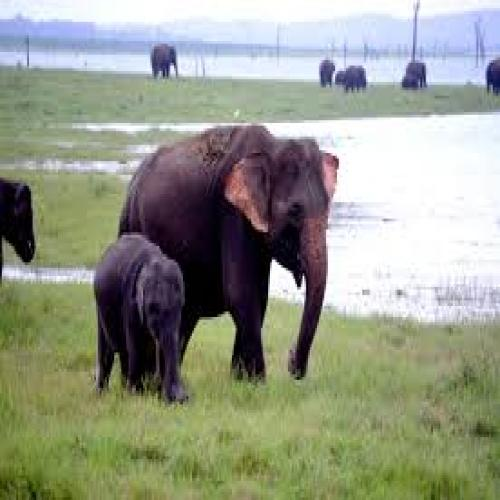asian_elephant-endangered: (122, 123, 342, 382), (92, 234, 188, 408), (150, 43, 181, 80)
